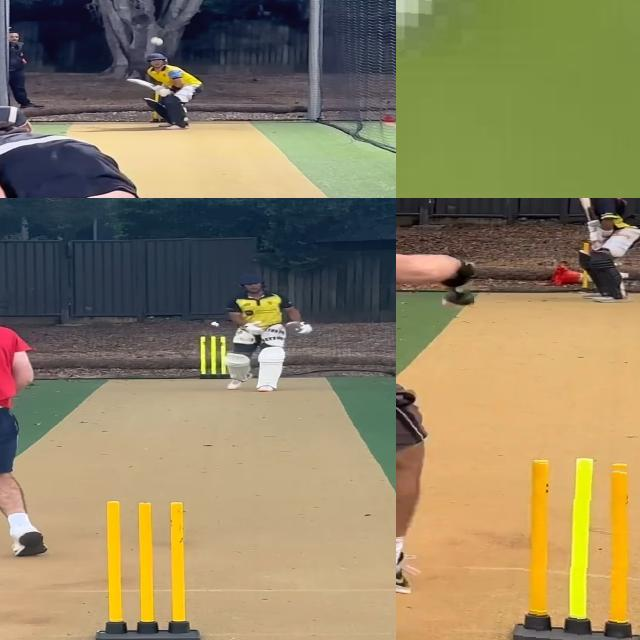Cricket ball: (150, 36, 165, 46), (209, 321, 221, 327)
Stumps: (517, 461, 640, 640), (93, 500, 201, 640), (199, 336, 227, 378)
